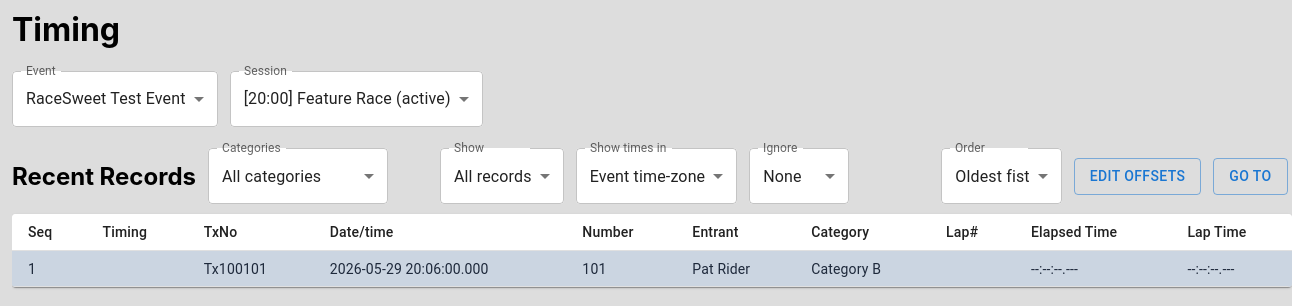
Test: TimingContext integration › updates the selected category row when a crossing row is selected
Click the row named "Record ID: crossing-1" at (652, 269), box [12, 251, 1291, 287]
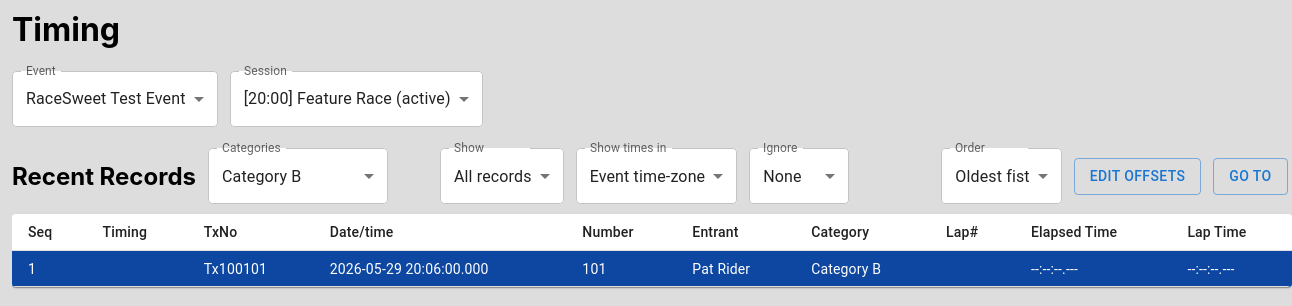
Now the dropdown labelled "Category B" is shown, box [222, 167, 302, 186]
